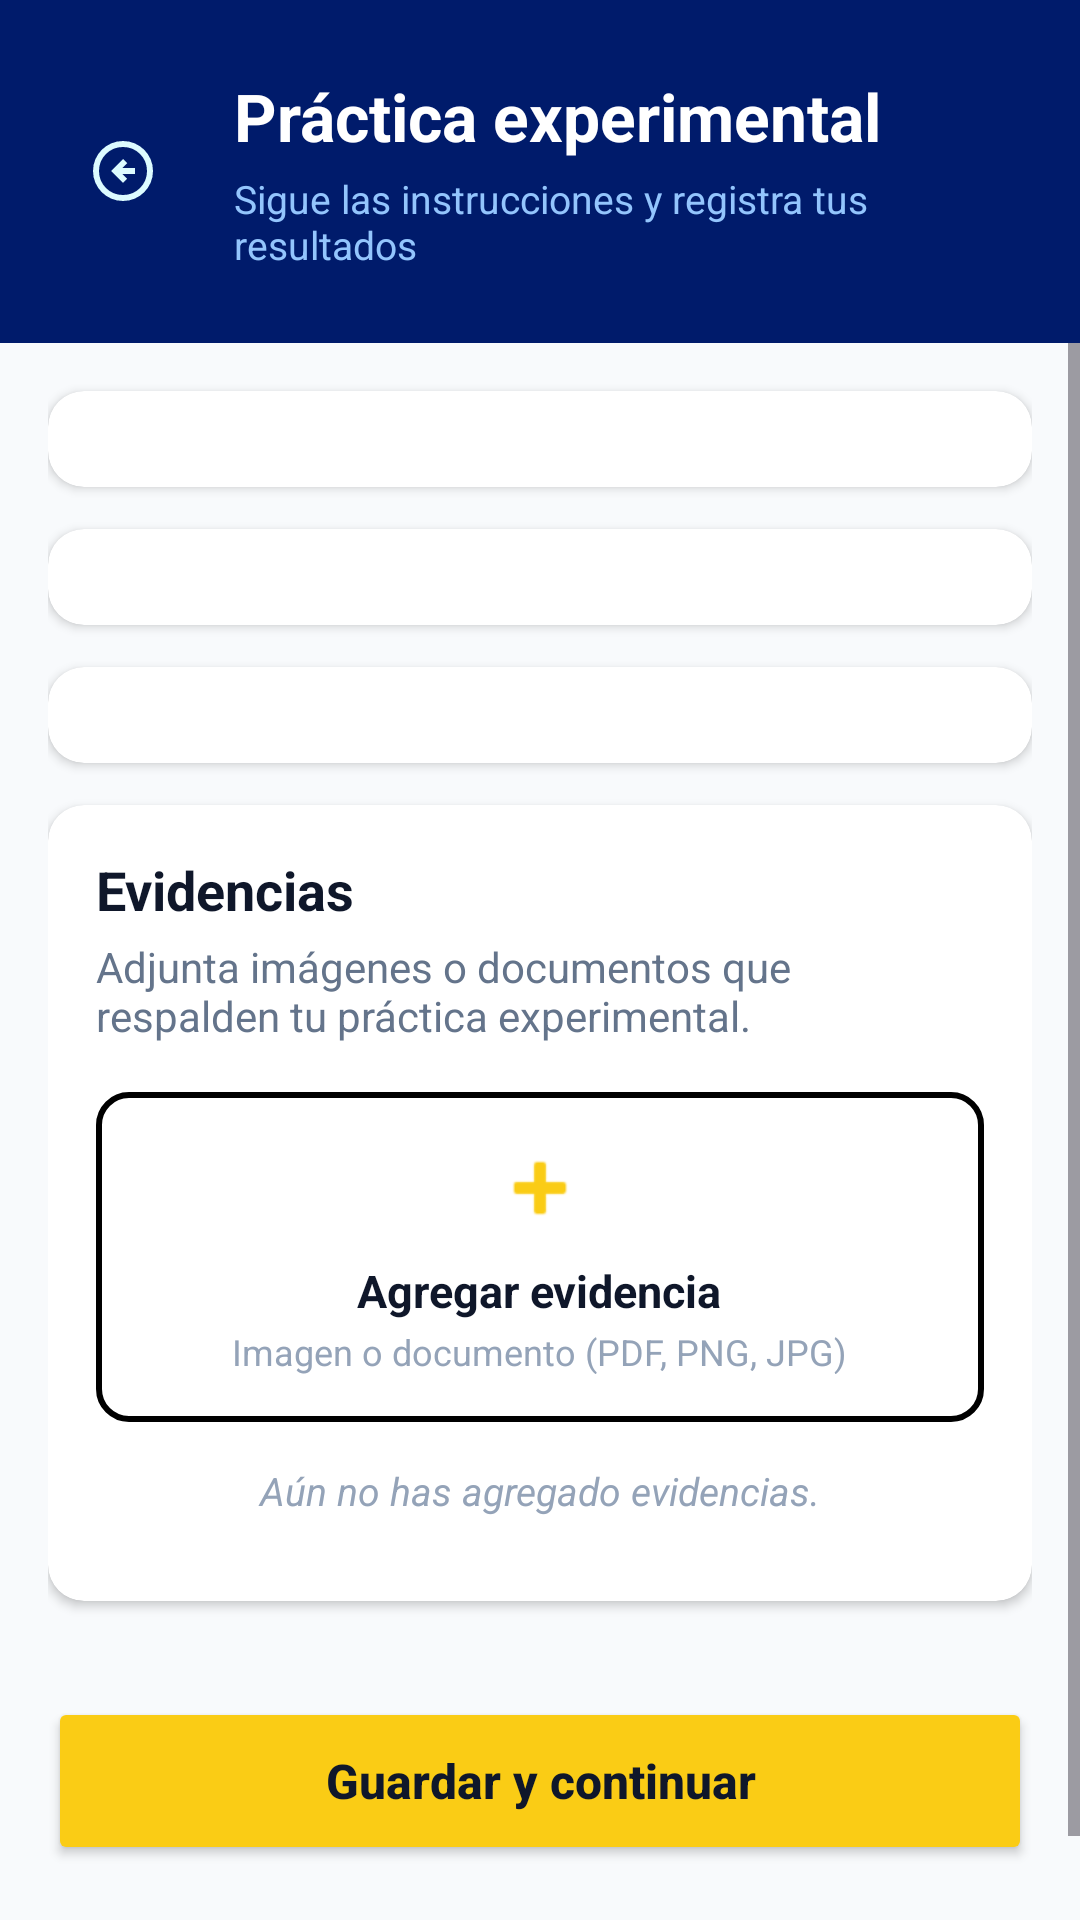

Icon click points for this 1080*1920 phone screenshot, format (x=x, y=y):
Añadir evidencia: (x=540, y=1188)
Regresar: (x=123, y=171)
